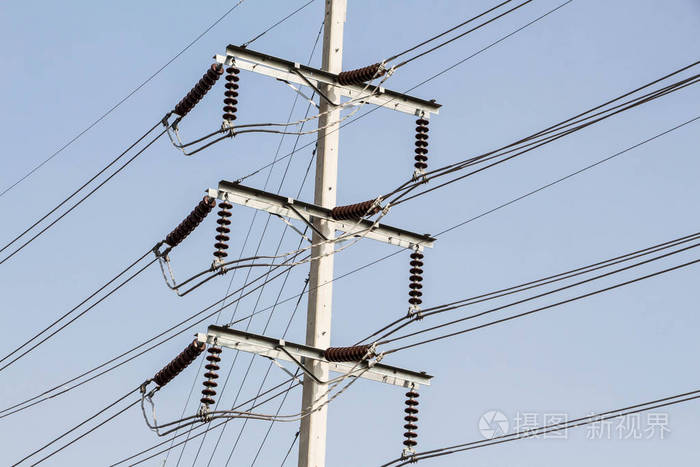insulator: (166, 198, 217, 248), (175, 65, 222, 114), (155, 340, 205, 386), (200, 349, 224, 405), (329, 198, 378, 222), (407, 250, 425, 307), (338, 62, 383, 84), (222, 67, 240, 119), (402, 389, 418, 446), (325, 344, 373, 363), (215, 202, 230, 257), (415, 119, 430, 168)
